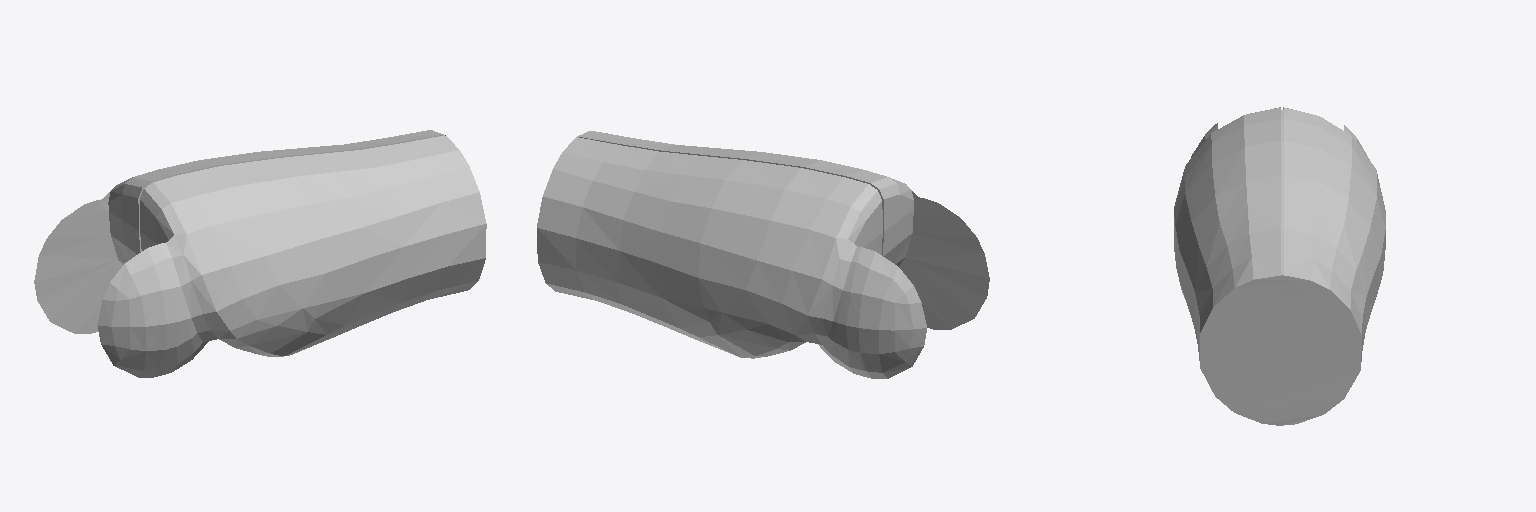
File: LElbowRoll.obj
3 views of the same model, side by side, from view 1: azimuth 30°, elevation 25°; view 2: azimuth 150°, elevation 25°; view 3: azimuth 270°, elevation 25° (orthographic).
Visible parts, largest first — view 1: default; view 2: default; view 3: default.
Part boxes in pixels (x1,y1,x2,y2): default: (34,130,486,377); default: (537,131,989,378); default: (1174,107,1385,425).
Bounding box in the file's own units: 0.1499 × 0.0747 × 0.0725.